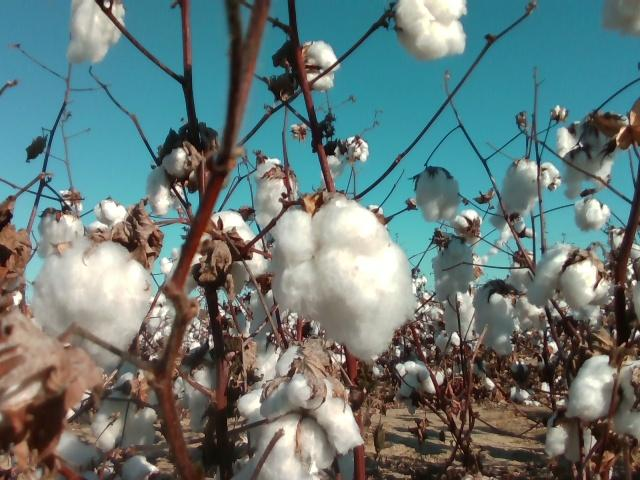cotton_ready: (271, 207, 415, 358), (31, 242, 151, 366), (237, 372, 364, 480), (548, 356, 640, 460), (53, 400, 160, 480), (186, 209, 269, 287), (528, 244, 605, 328), (472, 280, 539, 353), (492, 160, 559, 230), (392, 0, 467, 60), (560, 123, 616, 198), (174, 353, 223, 425), (68, 0, 126, 60), (431, 234, 476, 302), (147, 146, 188, 215), (416, 166, 457, 226), (251, 158, 284, 225), (299, 41, 341, 91), (37, 210, 85, 248), (395, 364, 446, 396), (600, 0, 640, 36)
